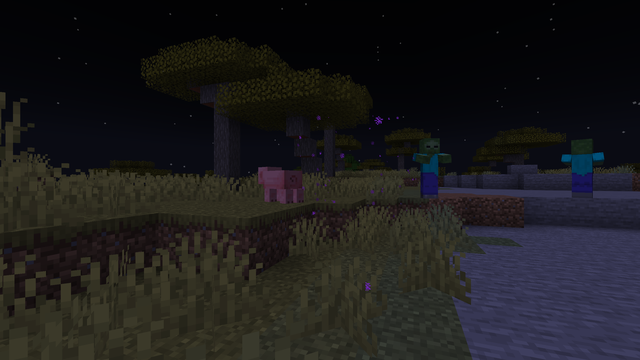cochons: (259, 169, 302, 203)
zombies: (566, 139, 598, 197), (419, 139, 439, 198)
